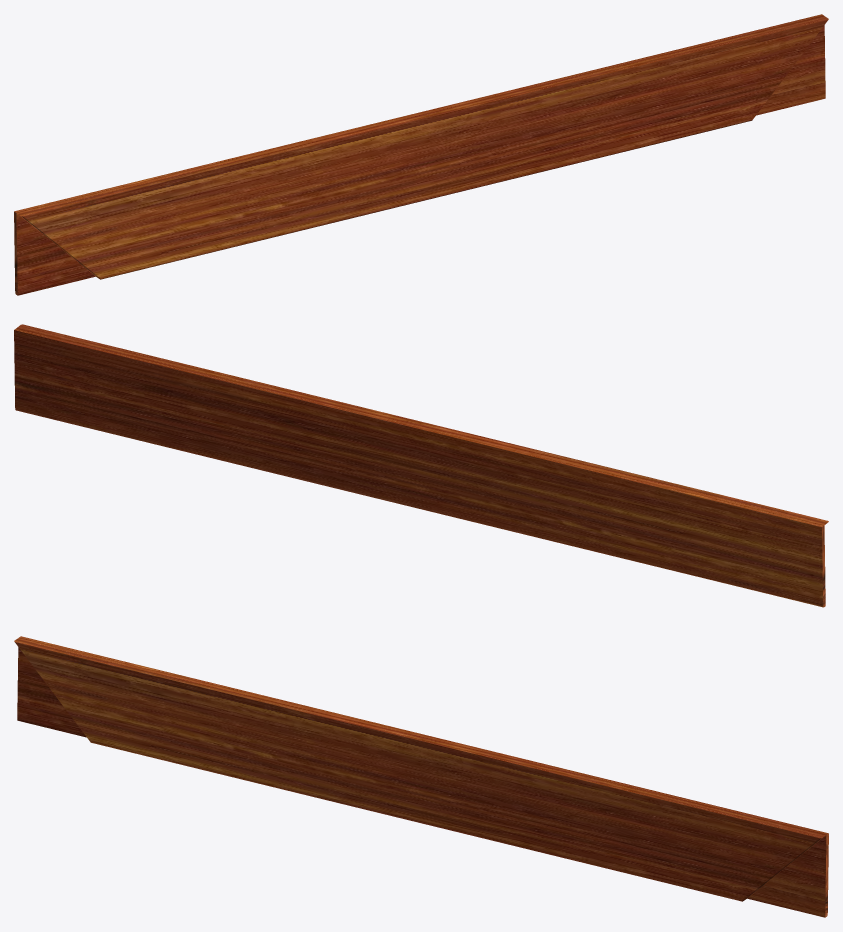
Rendered from GMY_J_houyatiao.FBX.
3 views of the same model, one above another, from view 1: azimuth 30°, elevation 25°; view 2: azimuth 150°, elevation 25°; view 3: azimuth 330°, elevation 25° (orthographic).
Parts seen in each view (by area): view 1: GMY_J_houyatiao; view 2: GMY_J_houyatiao; view 3: GMY_J_houyatiao.
Boxes of the visible parts, x1=… form: GMY_J_houyatiao: x1=14, y1=14, x2=828, y2=295; GMY_J_houyatiao: x1=14, y1=324, x2=828, y2=607; GMY_J_houyatiao: x1=14, y1=636, x2=828, y2=917.
Size of the model in its own units: 48.61 by 4.72 by 0.9243.
